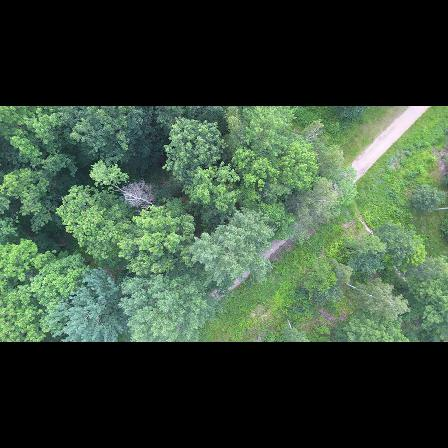Dead: (119, 180, 164, 213)
